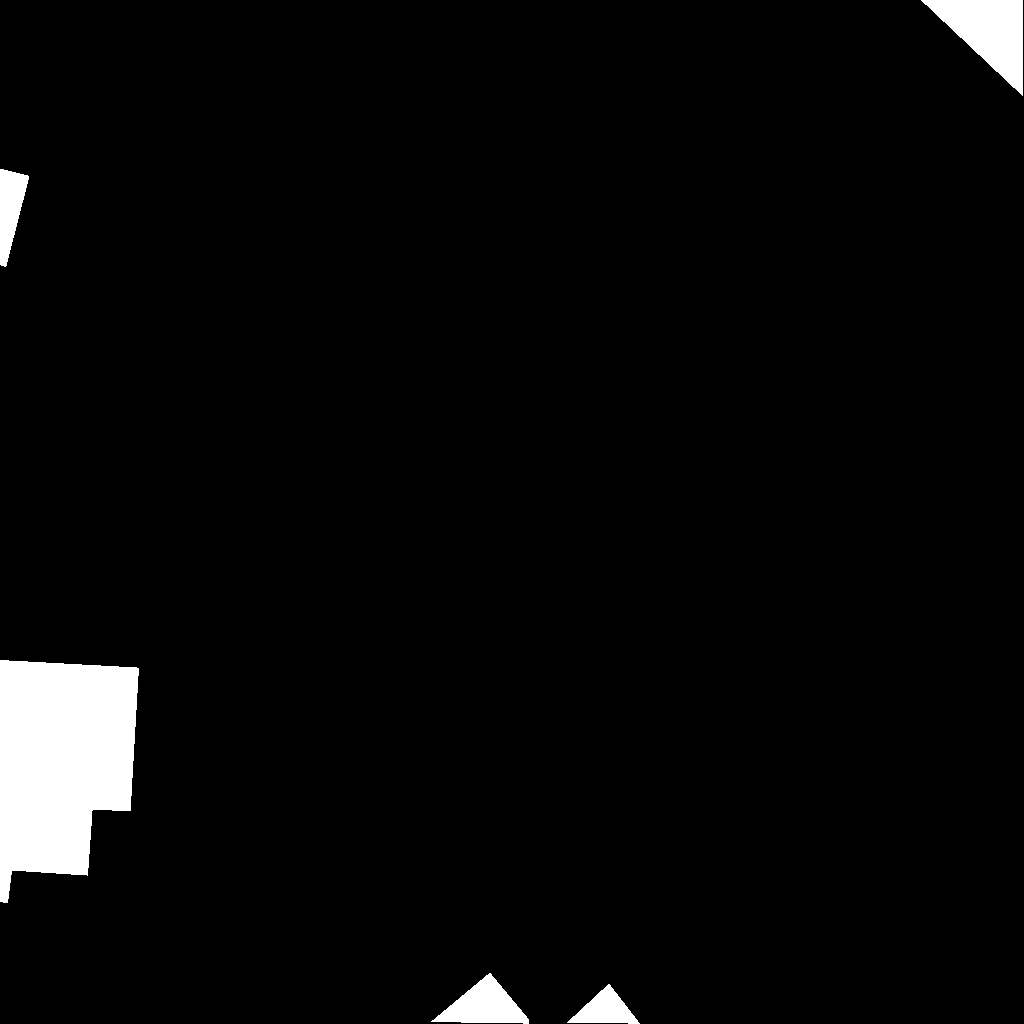building: (0, 660, 140, 904), (921, 0, 1024, 97), (431, 973, 531, 1024), (0, 169, 30, 268), (567, 984, 641, 1024)
